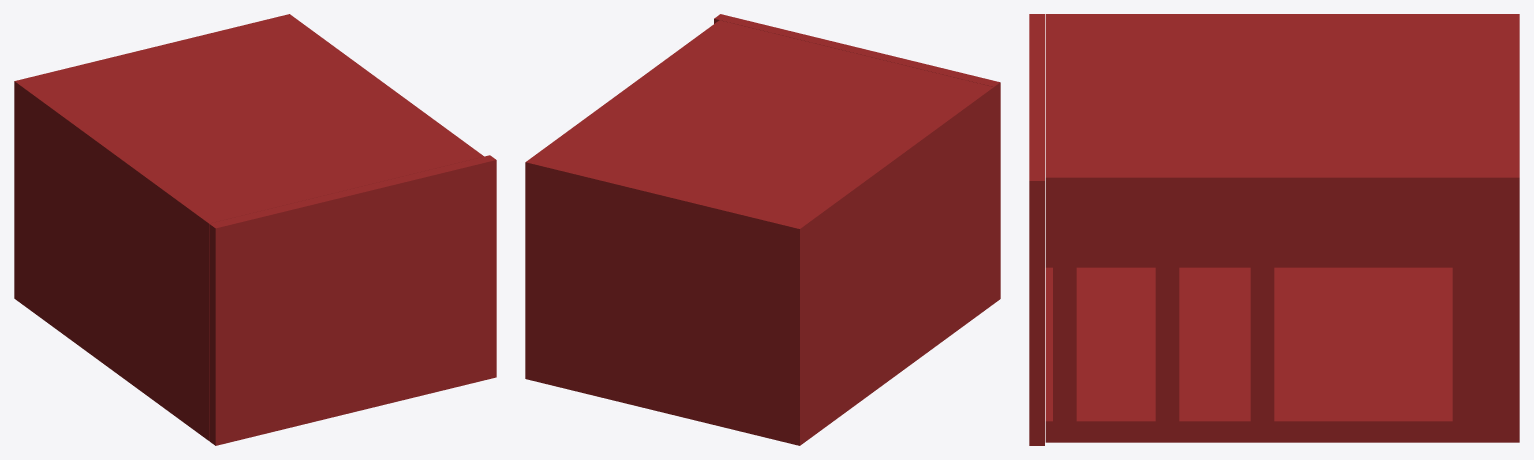
The picture shows the model from 3 angles, left to right: view 1: azimuth 30°, elevation 25°; view 2: azimuth 150°, elevation 25°; view 3: azimuth 270°, elevation 25°; orthographic projection. The views are drawn at different scales.
Visible parts, largest first — view 1: ROOT_link (×5); view 2: ROOT_link (×5); view 3: ROOT_link (×8).
Part boxes in pixels (bbox=[...]): ROOT_link (×5): bbox=[14, 14, 496, 445]; ROOT_link (×5): bbox=[525, 14, 1000, 445]; ROOT_link (×8): bbox=[1029, 14, 1519, 445].
Bounding box in the file's own units: 0.5 × 0.37 × 0.6205.
